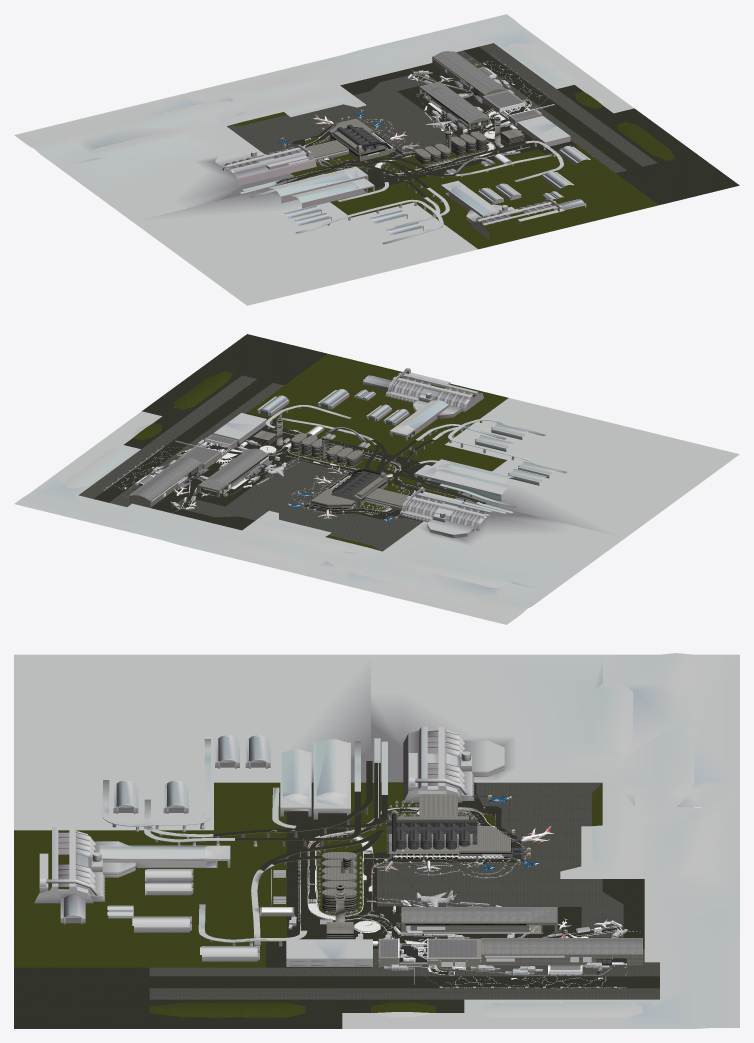
File: airport.glb
3 renders of one model, top to bottom at view 1: azimuth 30°, elevation 25°; view 2: azimuth 150°, elevation 25°; view 3: azimuth 270°, elevation 25°, orthographic. The views are drawn at different scales.
Visible parts, largest first — view 1: Object_151, Object_5, Object_155, Object_22, Object_19, Object_154, Object_53, Object_21, Object_184, Object_46, Object_163, Object_168 (+22 smaller); view 2: Object_151, Object_5, Object_155, Object_22, Object_154, Object_53, Object_19, Object_21, Object_46, Object_163, Object_184, Object_89 (+21 smaller); view 3: Object_151, Object_5, Object_155, Object_22, Object_154, Object_19, Object_21, Object_53, Object_46, Object_168, Object_163, Object_24 (+38 smaller).
Part boxes in pixels (<box>): Object_151: <box>29,14,604,305</box>; Object_5: <box>14,25,633,244</box>; Object_155: <box>398,151,651,249</box>; Object_22: <box>565,108,739,204</box>; Object_19: <box>275,142,526,197</box>; Object_154: <box>574,122,675,206</box>; Object_53: <box>227,115,311,146</box>; Object_21: <box>579,118,656,172</box>; Object_184: <box>415,131,486,165</box>; Object_46: <box>358,96,434,127</box>; Object_163: <box>291,104,383,140</box>; Object_168: <box>330,185,413,217</box>; Object_151: <box>14,368,739,613</box>; Object_5: <box>29,376,624,624</box>; Object_155: <box>254,355,508,456</box>; Object_22: <box>142,334,327,427</box>; Object_154: <box>174,354,334,414</box>; Object_53: <box>329,517,409,551</box>; Object_19: <box>274,427,486,503</box>; Object_21: <box>181,375,283,424</box>; Object_46: <box>232,479,305,512</box>; Object_163: <box>279,493,365,532</box>; Object_184: <box>291,433,362,466</box>; Object_89: <box>106,434,476,521</box>; Object_151: <box>14,653,739,1028</box>; Object_5: <box>64,654,739,1028</box>; Object_155: <box>14,830,265,962</box>; Object_22: <box>14,967,342,1028</box>; Object_154: <box>14,962,305,1017</box>; Object_19: <box>213,761,387,930</box>; Object_21: <box>149,967,342,999</box>; Object_53: <box>516,782,601,826</box>; Object_46: <box>464,871,560,906</box>; Object_168: <box>214,782,286,830</box>; Object_163: <box>476,825,581,871</box>; Object_24: <box>342,976,464,1012</box>.
Bounding box in the file's own units: 4210 × 289 × 3451.
100 materials, 98 textured.
